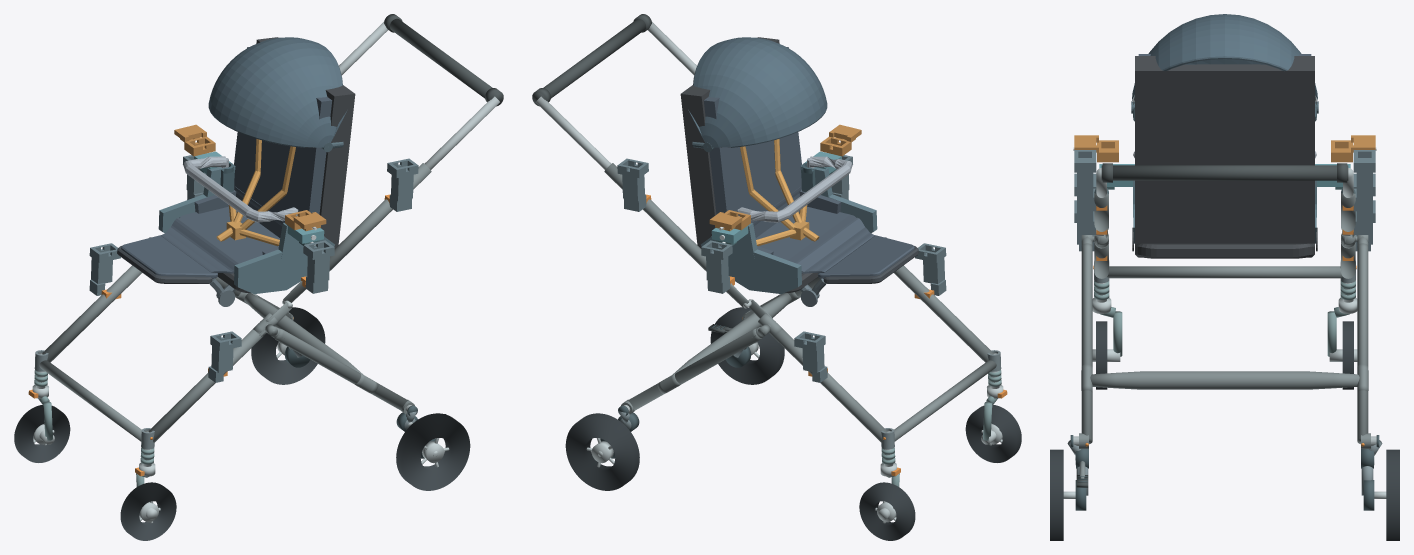
Rendered from S05_w650_state1_wheel_S.glb.
3 renders of one model, left to right at view 1: azimuth 30°, elevation 25°; view 2: azimuth 150°, elevation 25°; view 3: azimuth 270°, elevation 25°, orthographic. The views are drawn at different scales.
Parts seen in each view (by area): view 1: S05_Cabin, S05_Cabin_Mount_M, RL_tire.008, RR_tire.008, FL_tire.008, FR_tire.008, round_handle.008, V46_rear_leg_-1.009, main_lower_1.009, main_lower_-1.009, front_fixed_round_tube.008, main_upper_-1.009 (+9 smaller); view 2: S05_Cabin, S05_Cabin_Mount_M, RR_tire.008, FR_tire.008, RL_tire.008, FL_tire.008, round_handle.008, V46_rear_leg_1.009, main_lower_-1.009, main_lower_1.009, front_fixed_round_tube.008, main_upper_1.009 (+9 smaller); view 3: S05_Cabin, V46_rearbar.009, round_handle.008, front_fixed_round_tube.008, V46_rear_leg_1.009, V46_rear_leg_-1.009, RL_tire.008, RR_tire.008, Universal_Cabin_Receiver_H_1, Universal_Cabin_Receiver_H_-1, D02_WideAdapter_M_-1, D02_WideAdapter_M_1 (+9 smaller).
Part boxes in pixels (x1,y1,x2,y2): S05_Cabin: (117, 37, 355, 306); S05_Cabin_Mount_M: (158, 151, 334, 294); RL_tire.008: (396, 413, 470, 490); RR_tire.008: (251, 307, 325, 384); FL_tire.008: (120, 482, 176, 540); FR_tire.008: (14, 405, 70, 462); round_handle.008: (390, 18, 502, 104); V46_rear_leg_-1.009: (274, 328, 407, 410); main_lower_1.009: (42, 265, 142, 362); main_lower_-1.009: (148, 329, 265, 442); front_fixed_round_tube.008: (39, 360, 141, 441); main_upper_-1.009: (329, 163, 431, 270); S05_Cabin: (680, 37, 918, 306); S05_Cabin_Mount_M: (701, 151, 877, 294); RR_tire.008: (565, 413, 639, 490); FR_tire.008: (859, 482, 915, 540); RL_tire.008: (710, 307, 784, 384); FL_tire.008: (965, 405, 1021, 462); round_handle.008: (533, 18, 645, 104); V46_rear_leg_1.009: (628, 328, 761, 410); main_lower_-1.009: (893, 265, 993, 362); main_lower_1.009: (770, 329, 887, 442); front_fixed_round_tube.008: (894, 360, 996, 441); main_upper_1.009: (604, 163, 706, 270); S05_Cabin: (1131, 14, 1318, 258); V46_rearbar.009: (1090, 371, 1359, 389); round_handle.008: (1101, 165, 1348, 180); front_fixed_round_tube.008: (1107, 266, 1342, 278); V46_rear_leg_1.009: (1357, 243, 1368, 444); V46_rear_leg_-1.009: (1081, 243, 1092, 444); RL_tire.008: (1050, 449, 1063, 540); RR_tire.008: (1386, 449, 1399, 540); Universal_Cabin_Receiver_H_1: (1353, 150, 1375, 211); Universal_Cabin_Receiver_H_-1: (1074, 150, 1096, 211); D02_WideAdapter_M_-1: (1073, 135, 1118, 162); D02_WideAdapter_M_1: (1331, 135, 1376, 162).
Size of the model in its own units: 1.12 by 1.14 by 0.766.
